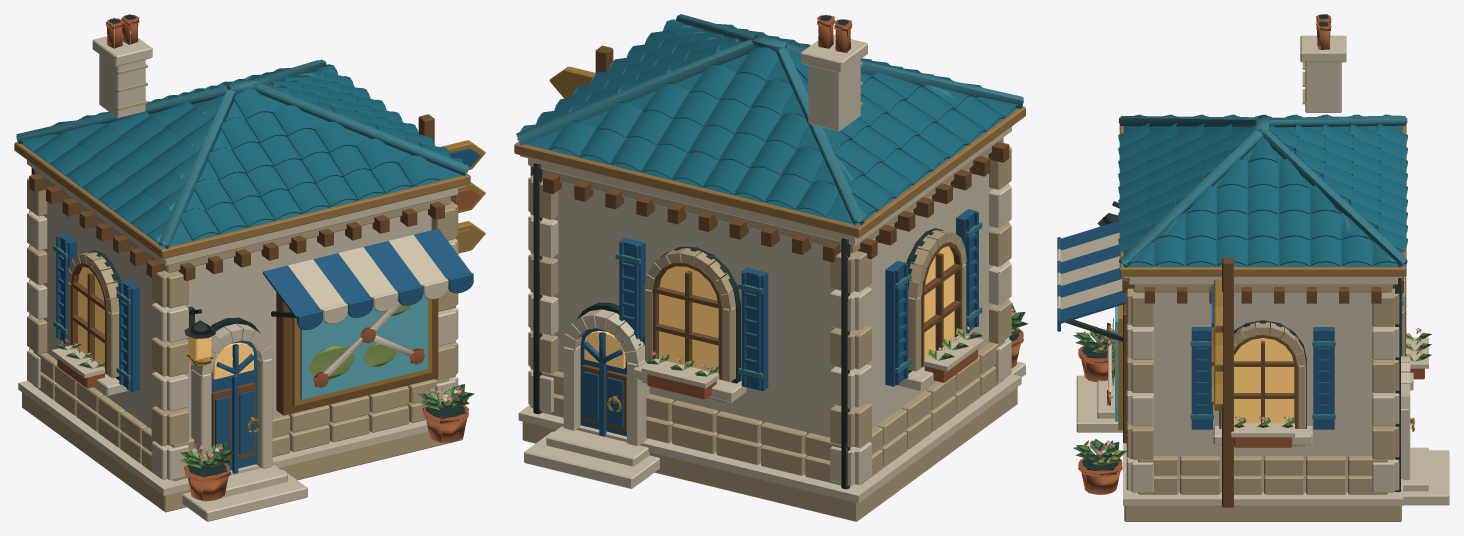
The picture shows the model from 3 angles, left to right: view 1: azimuth 30°, elevation 25°; view 2: azimuth 150°, elevation 25°; view 3: azimuth 270°, elevation 25°; orthographic projection. The views are drawn at different scales.
Visible parts, largest first — view 1: harbor_junction_hub_geometry; view 2: harbor_junction_hub_geometry; view 3: harbor_junction_hub_geometry.
Boxes of the visible parts, bbox=[...] form: harbor_junction_hub_geometry: bbox=[14, 14, 485, 521]; harbor_junction_hub_geometry: bbox=[514, 14, 1028, 521]; harbor_junction_hub_geometry: bbox=[1057, 14, 1449, 521].
Size of the model in its own units: 1.04 by 1.02 by 0.9257.
